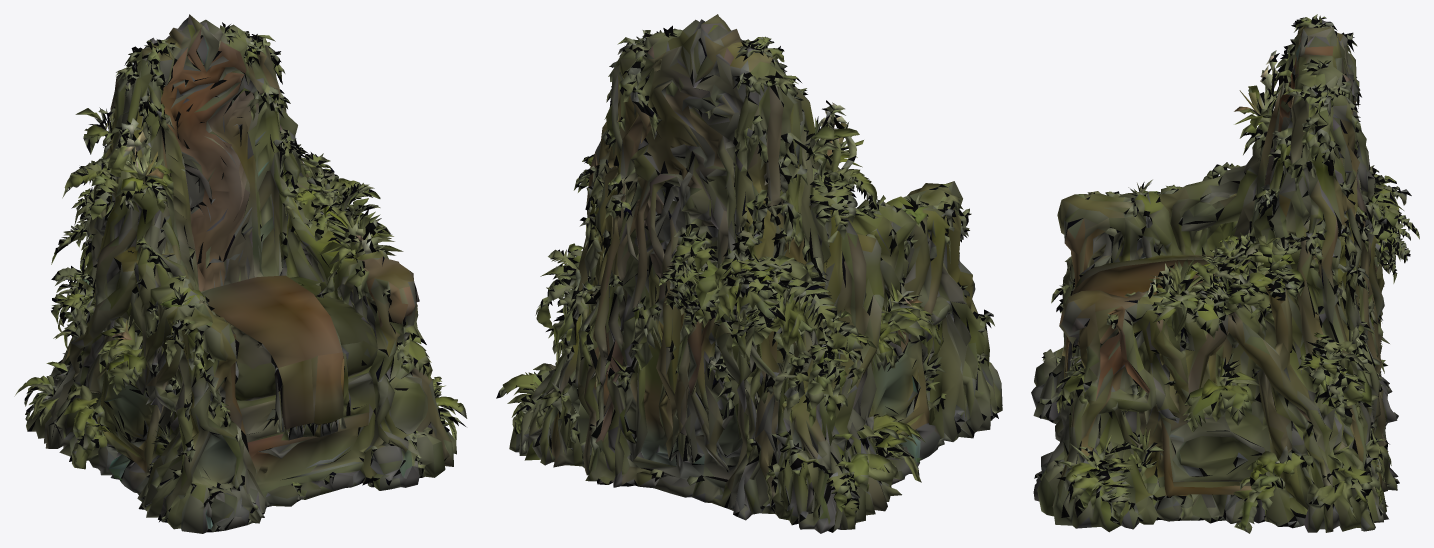
Rendered from king-throne-phone.glb.
The picture shows the model from 3 angles, left to right: view 1: azimuth 30°, elevation 25°; view 2: azimuth 150°, elevation 25°; view 3: azimuth 270°, elevation 25°; orthographic projection. The views are drawn at different scales.
Visible parts, largest first — view 1: Model; view 2: Model; view 3: Model.
Part boxes in pixels (x1=…): Model: x1=14, y1=14, x2=467, y2=533; Model: x1=496, y1=14, x2=1002, y2=533; Model: x1=1031, y1=14, x2=1419, y2=533.
Size of the model in its own units: 1.67 by 1.9 by 1.58.
Materials: 1 (1 with a texture image).
